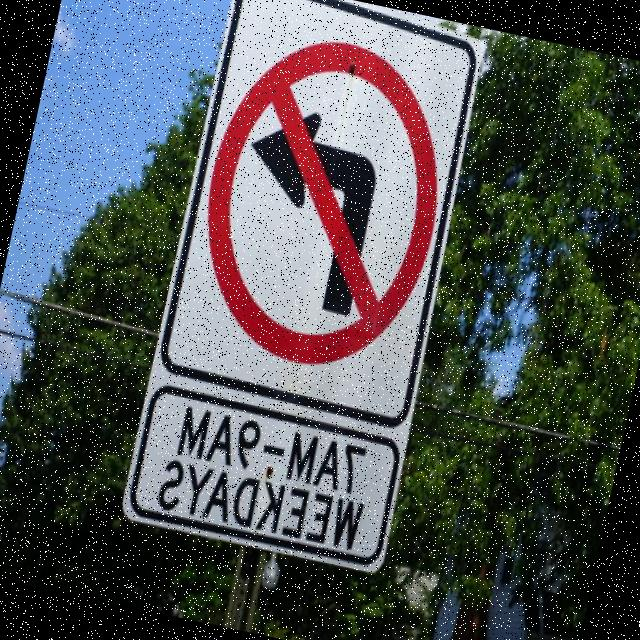do_not_turn_right: (175, 14, 466, 388)
